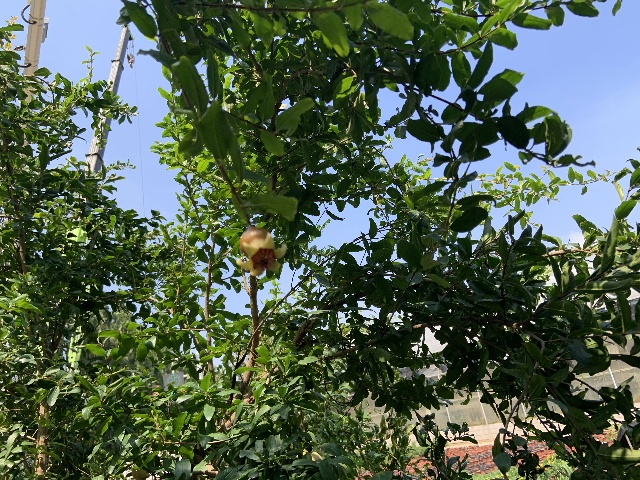early-fruit: (235, 227, 287, 276)
